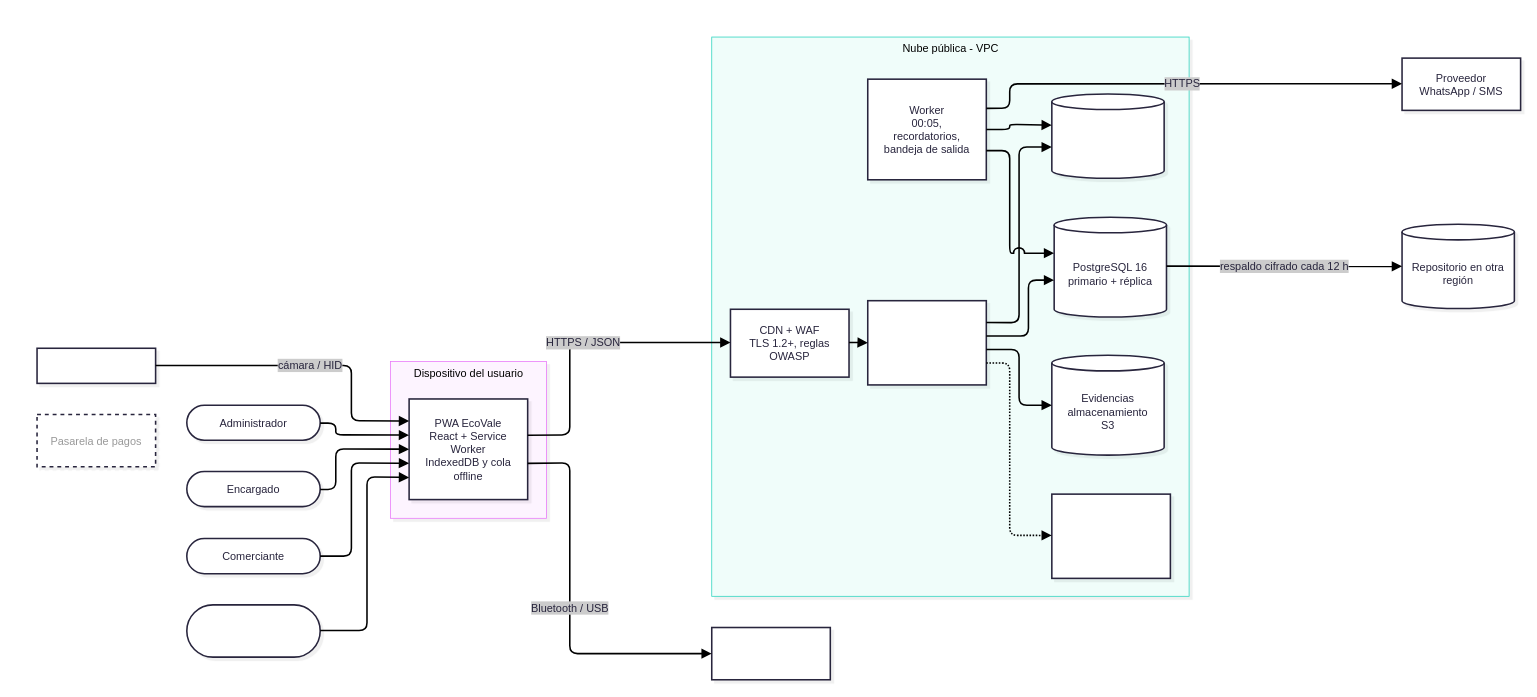
Some shapes in this 1537 by 697 pixel diagram are drawn without their labels. Here are the shapes that lost their labels. From the top down, the centre of each, then its label:
point 1109,137: Redis colas BullMQ
point 928,344: API EcoVale x2 NestJS / Node.js 24 LTS JWT + RBAC
point 97,367: Lector QR
point 1112,537: Gestor de secretos claves HMAC y JWT
point 255,632: Gerencia Ambiental
point 772,654: Impresora térmica
